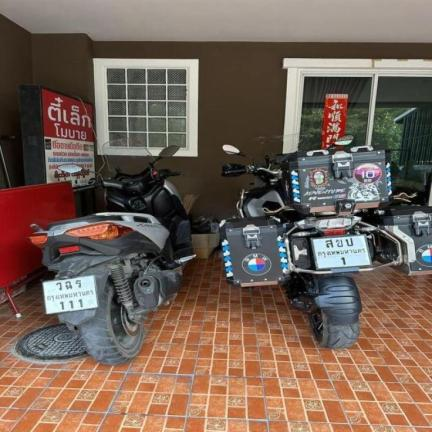1: (58, 301, 66, 310), (339, 256, 347, 265), (78, 298, 85, 308), (67, 300, 74, 309)
A02: (336, 238, 343, 248)
A09: (62, 280, 72, 289)
A26: (345, 237, 355, 247)
A35: (75, 279, 83, 290)
A37: (55, 282, 62, 291)
A40: (323, 238, 335, 249)
BKK: (45, 289, 94, 304), (315, 247, 368, 259)
